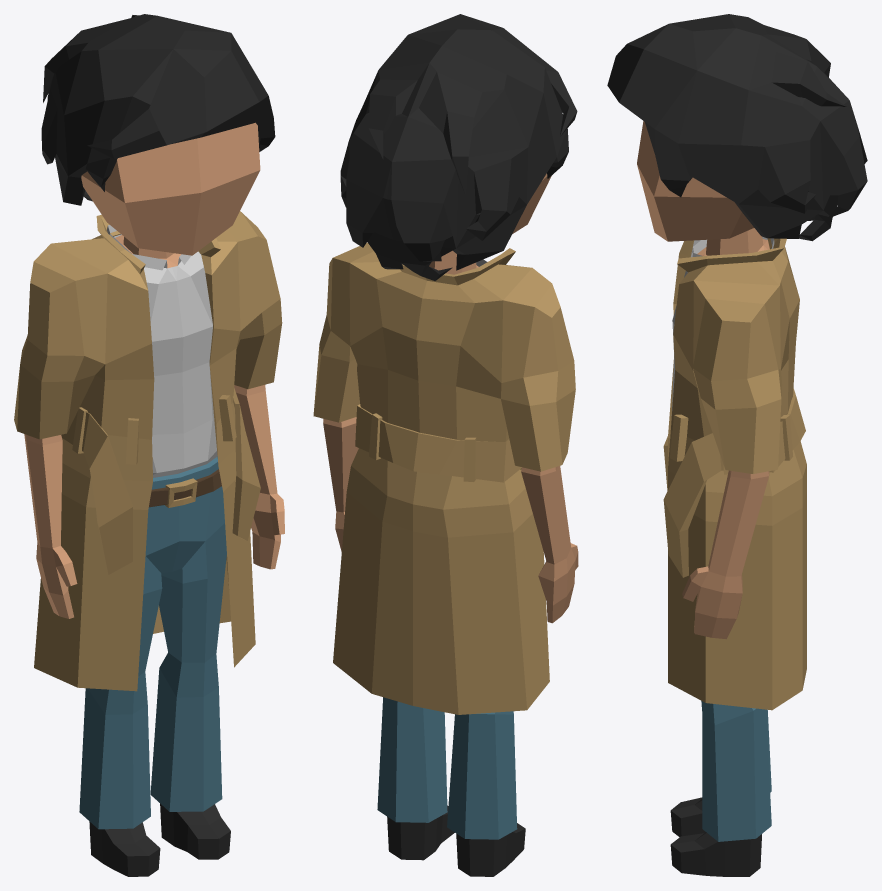
File: fabianexp-1.glb
3 renders of one model, left to right at view 1: azimuth 30°, elevation 25°; view 2: azimuth 150°, elevation 25°; view 3: azimuth 270°, elevation 25°, orthographic. The views are drawn at different scales.
Visible parts, largest first — view 1: Cube.003, Cube.004; view 2: Cube.003, Cube.004; view 3: Cube.003, Cube.004.
Part boxes in pixels (box(x1,y1,x2,y2)): Cube.003: box(14, 122, 284, 876); Cube.004: box(41, 14, 275, 205); Cube.003: box(313, 173, 578, 876); Cube.004: box(340, 14, 577, 280); Cube.003: box(637, 121, 806, 876); Cube.004: box(607, 14, 867, 241).
Bounding box in the file's own units: 2.47 × 7.78 × 2.22.
